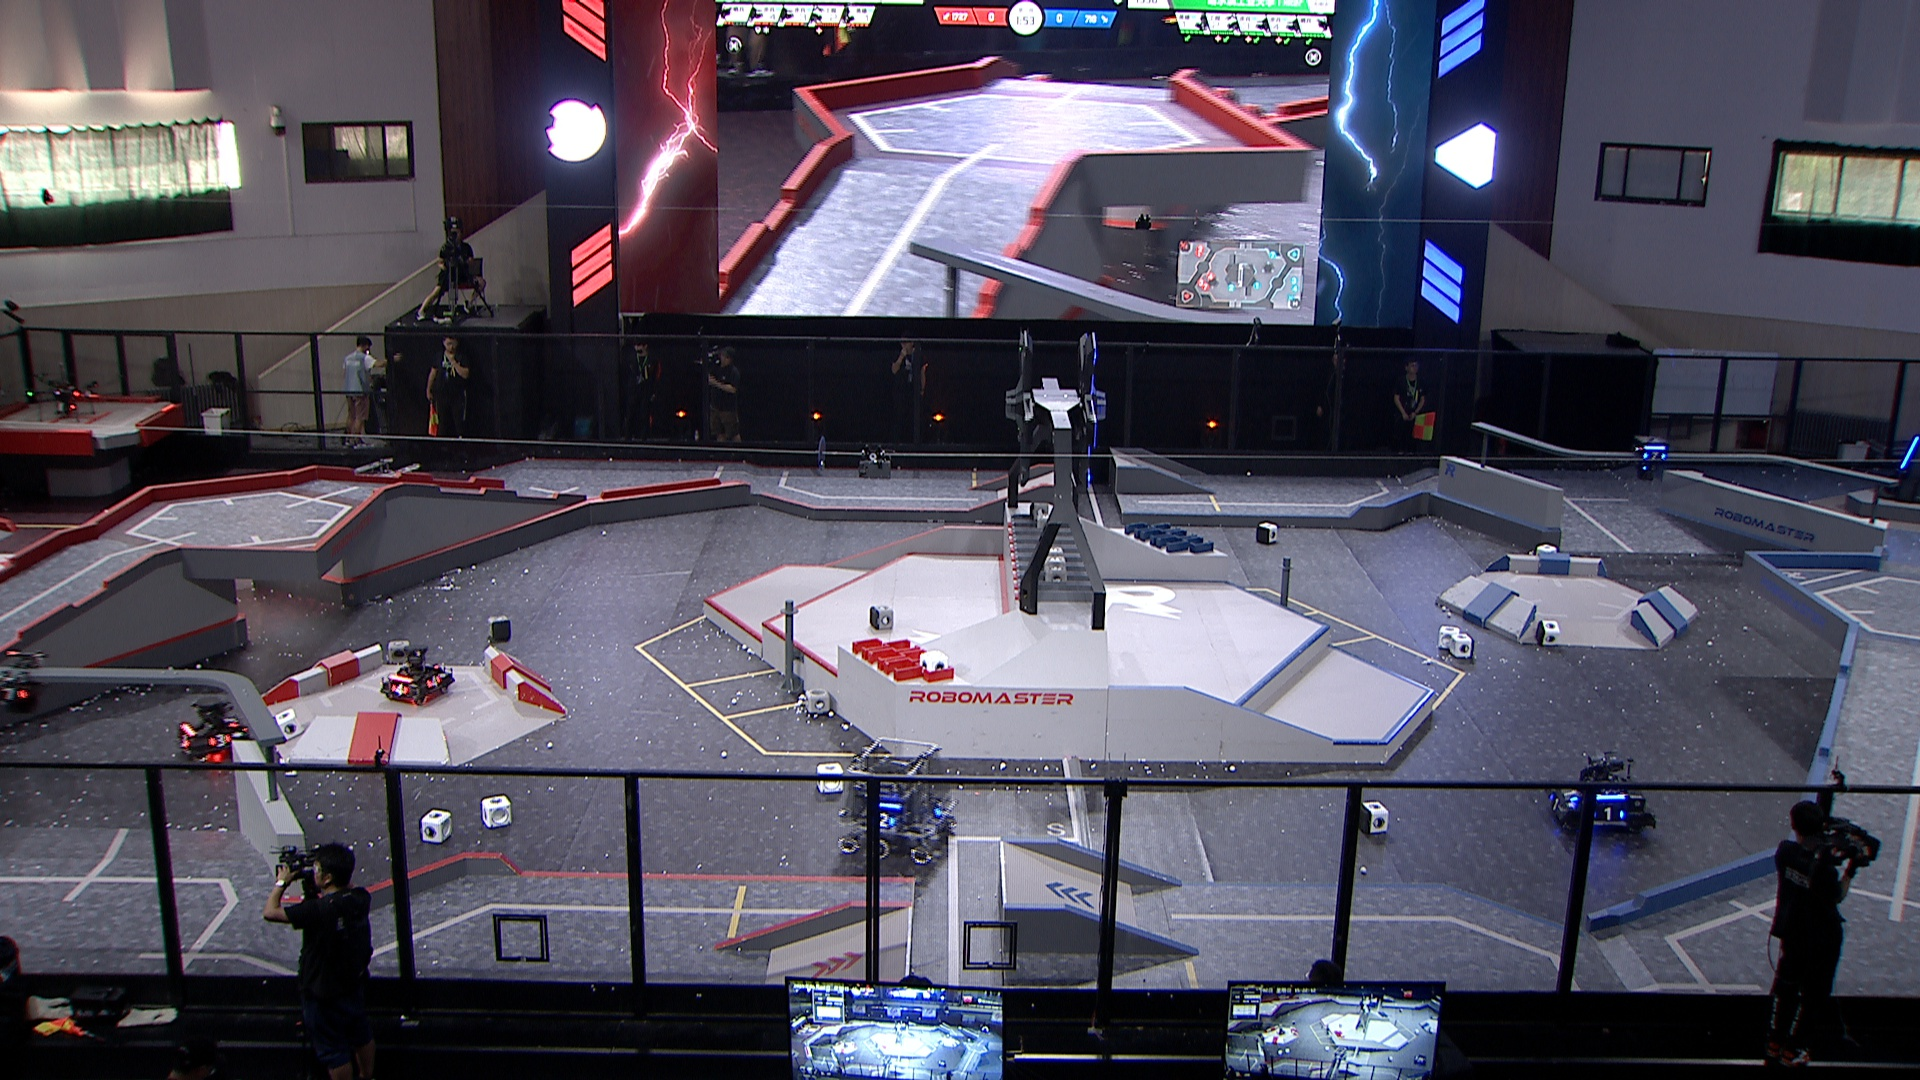armor: (1902, 436, 1920, 471), (1596, 806, 1627, 823), (208, 732, 233, 750), (1548, 793, 1567, 818), (932, 798, 949, 820), (880, 808, 897, 831), (0, 687, 26, 702), (390, 680, 410, 698), (1640, 450, 1667, 462), (425, 673, 442, 688), (177, 731, 191, 749), (223, 716, 240, 731), (1564, 789, 1580, 803)
base: (1879, 423, 1920, 508)
car: (837, 736, 960, 868), (1548, 754, 1659, 843), (339, 455, 425, 535), (175, 698, 257, 767), (384, 644, 458, 707)
watcher: (1634, 434, 1669, 484)
